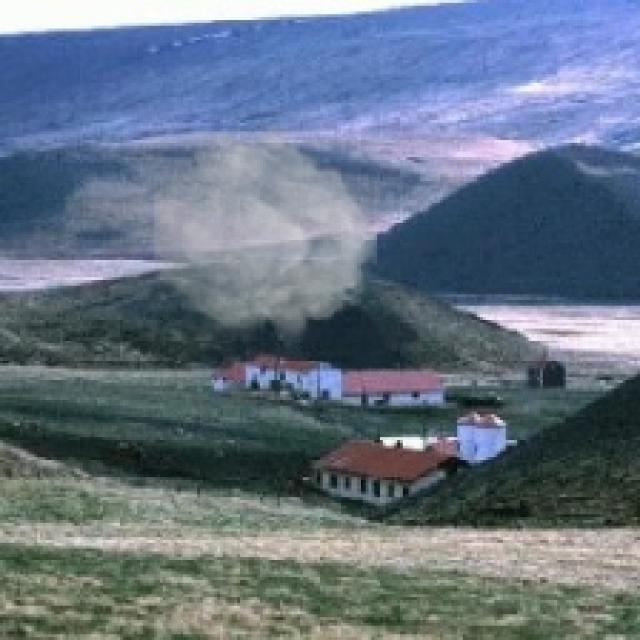Smoke: (154, 123, 377, 346)
